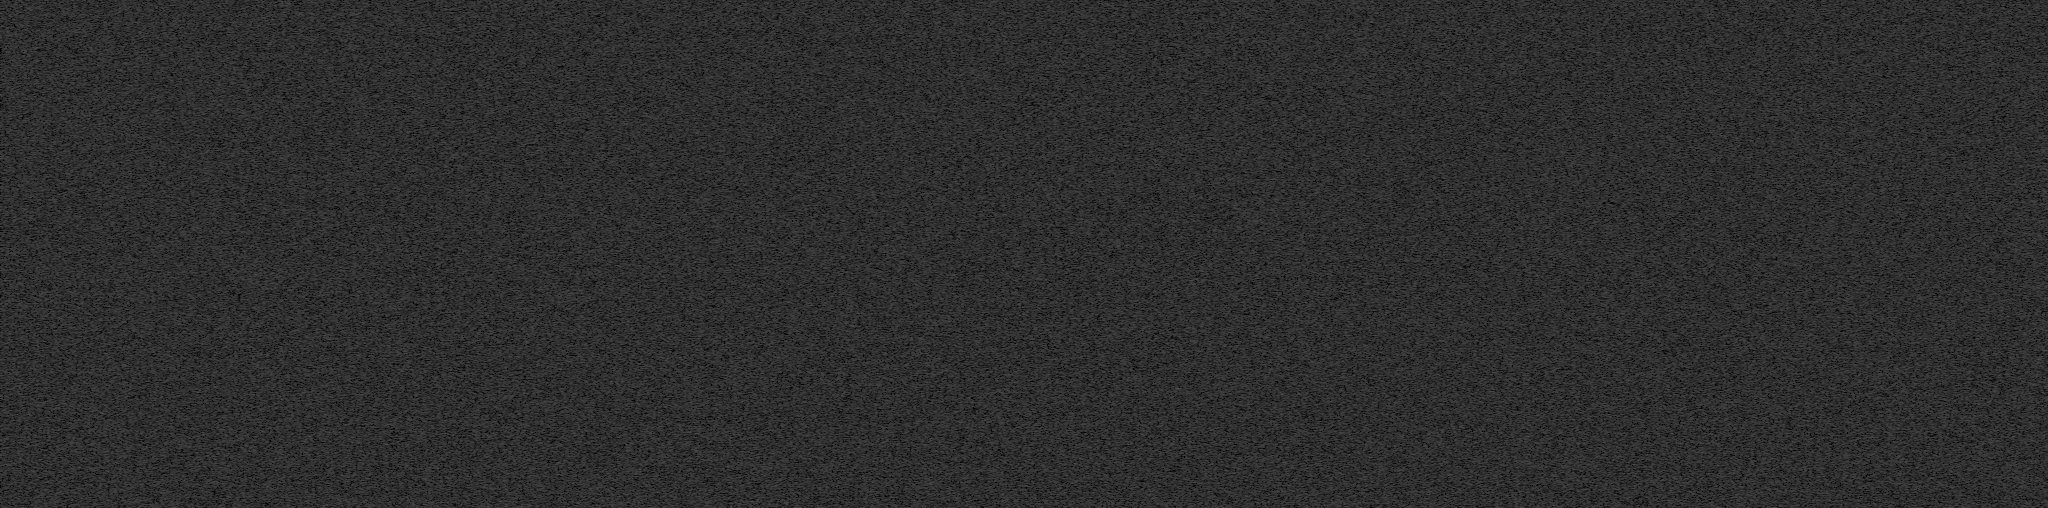wv_am: (8, 1, 13, 373), (8, 377, 13, 508)
wv_cw: (61, 0, 69, 508), (140, 0, 145, 508)
wv_lsb: (944, 97, 948, 217), (944, 259, 948, 293), (944, 225, 948, 259), (944, 295, 948, 328), (944, 330, 948, 362), (944, 67, 948, 95), (944, 375, 948, 393), (944, 414, 948, 428), (944, 50, 948, 59), (944, 8, 948, 16), (944, 451, 948, 458), (946, 39, 948, 48)
wv_usb: (990, 249, 995, 508), (990, 64, 995, 185), (990, 9, 995, 63), (990, 187, 995, 230), (990, 231, 995, 248)
wv_wbfm: (781, 0, 814, 508)
